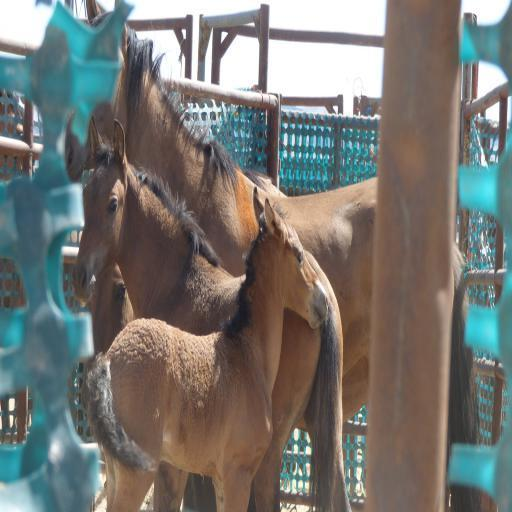horse: (65, 0, 480, 511), (68, 114, 350, 512), (81, 180, 328, 512), (0, 90, 89, 446)
